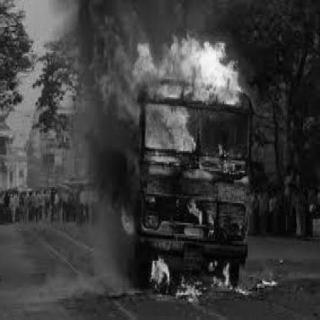Fire: (83, 28, 249, 155), (135, 256, 283, 298), (176, 195, 232, 232), (108, 198, 146, 234)
